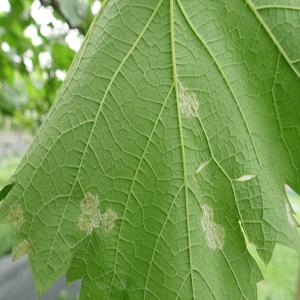Folha: (1, 0, 299, 299)
Fungo: (0, 203, 32, 261), (78, 190, 118, 236), (200, 202, 226, 252), (177, 84, 199, 119), (3, 203, 25, 231), (284, 199, 298, 229), (102, 206, 118, 232)
